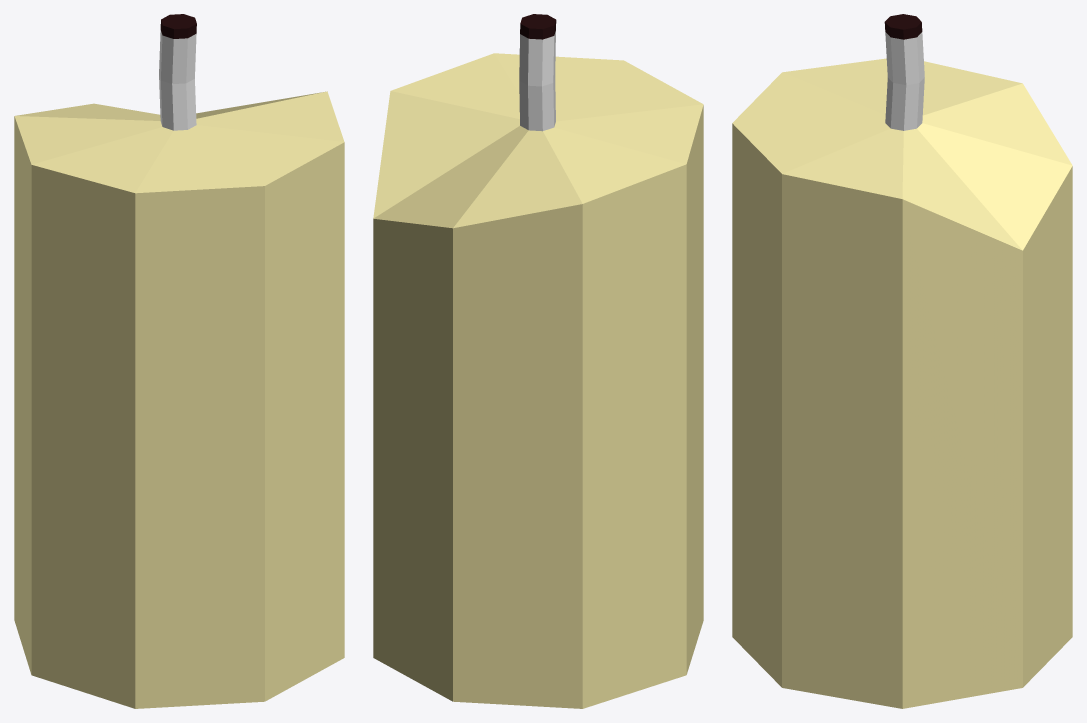
The model's file is Candle001.fbx.
3 renders of one model, left to right at view 1: azimuth 30°, elevation 25°; view 2: azimuth 150°, elevation 25°; view 3: azimuth 270°, elevation 25°, orthographic.
Visible parts, largest first — view 1: Candle Variation 001; view 2: Candle Variation 001; view 3: Candle Variation 001.
Part boxes in pixels (x1,y1,x2,y2): Candle Variation 001: [14, 14, 344, 708]; Candle Variation 001: [373, 14, 703, 708]; Candle Variation 001: [732, 14, 1072, 708].
Bounding box in the file's own units: 0.0991 × 0.1976 × 0.0991.
